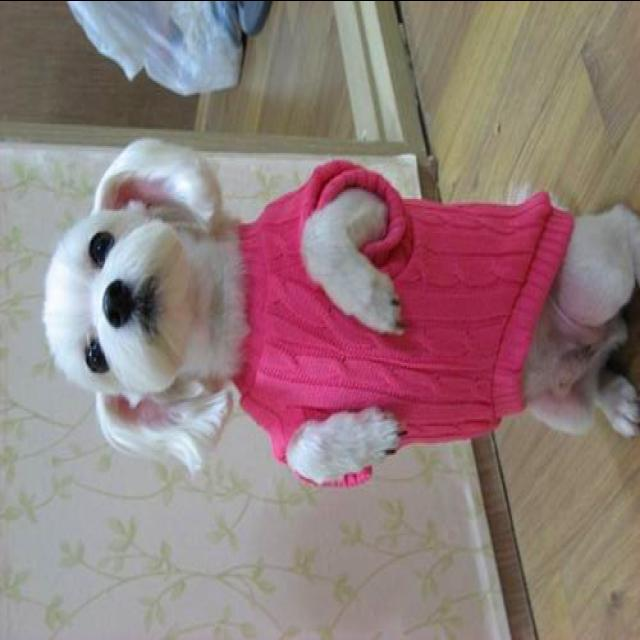maltese_dog: (41, 131, 637, 495)
